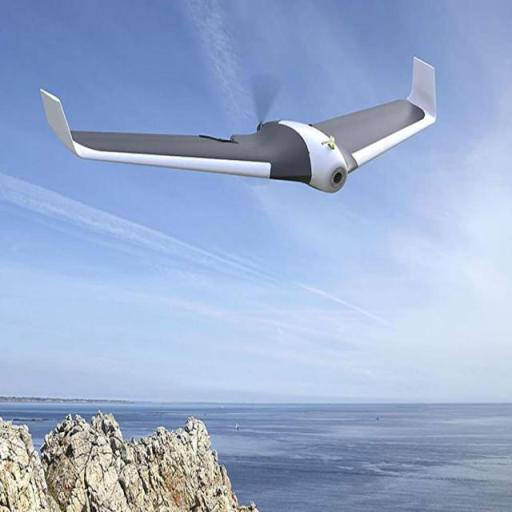uav: (35, 52, 444, 211)
